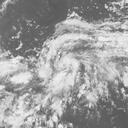cyclone: (39, 26, 105, 92)
